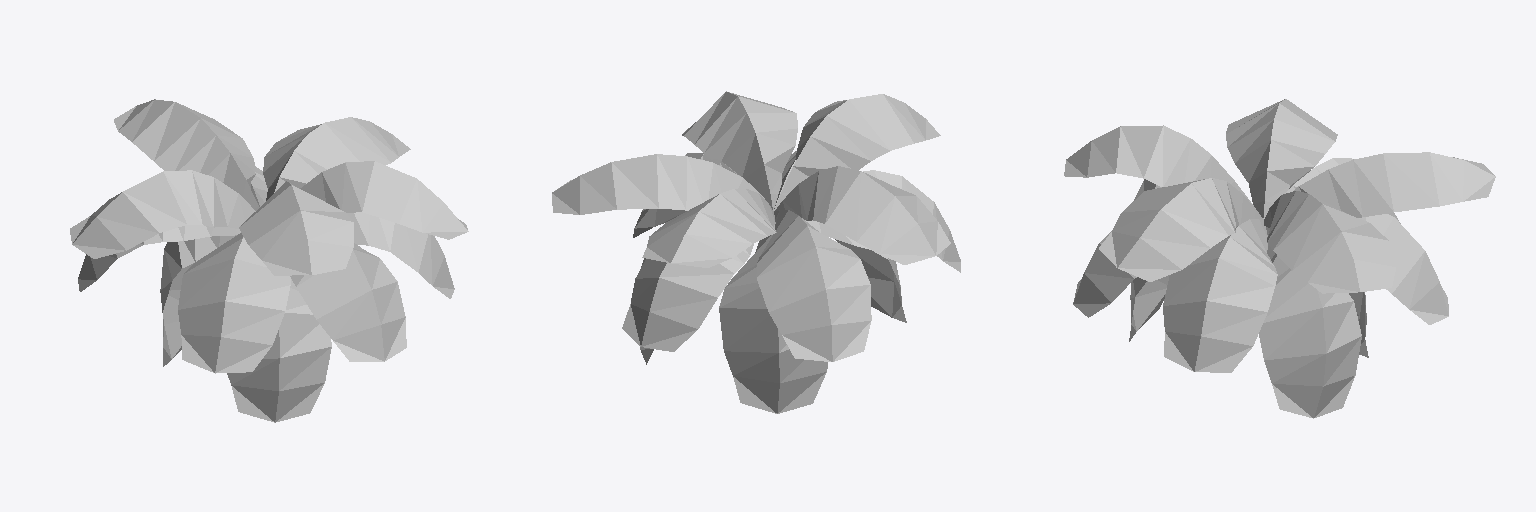
Rendered from Folha2.obj.
The picture shows the model from 3 angles: view 1: azimuth 30°, elevation 25°; view 2: azimuth 150°, elevation 25°; view 3: azimuth 270°, elevation 25°; orthographic projection.
Visible parts, largest first — view 1: Leaf_2; view 2: Leaf_2; view 3: Leaf_2.
Boxes of the visible parts, x1,y1,x2,y2 form: Leaf_2: [70, 99, 468, 422]; Leaf_2: [552, 91, 960, 413]; Leaf_2: [1064, 99, 1495, 418].
Bounding box in the file's own units: 1.1 × 0.7141 × 1.17.